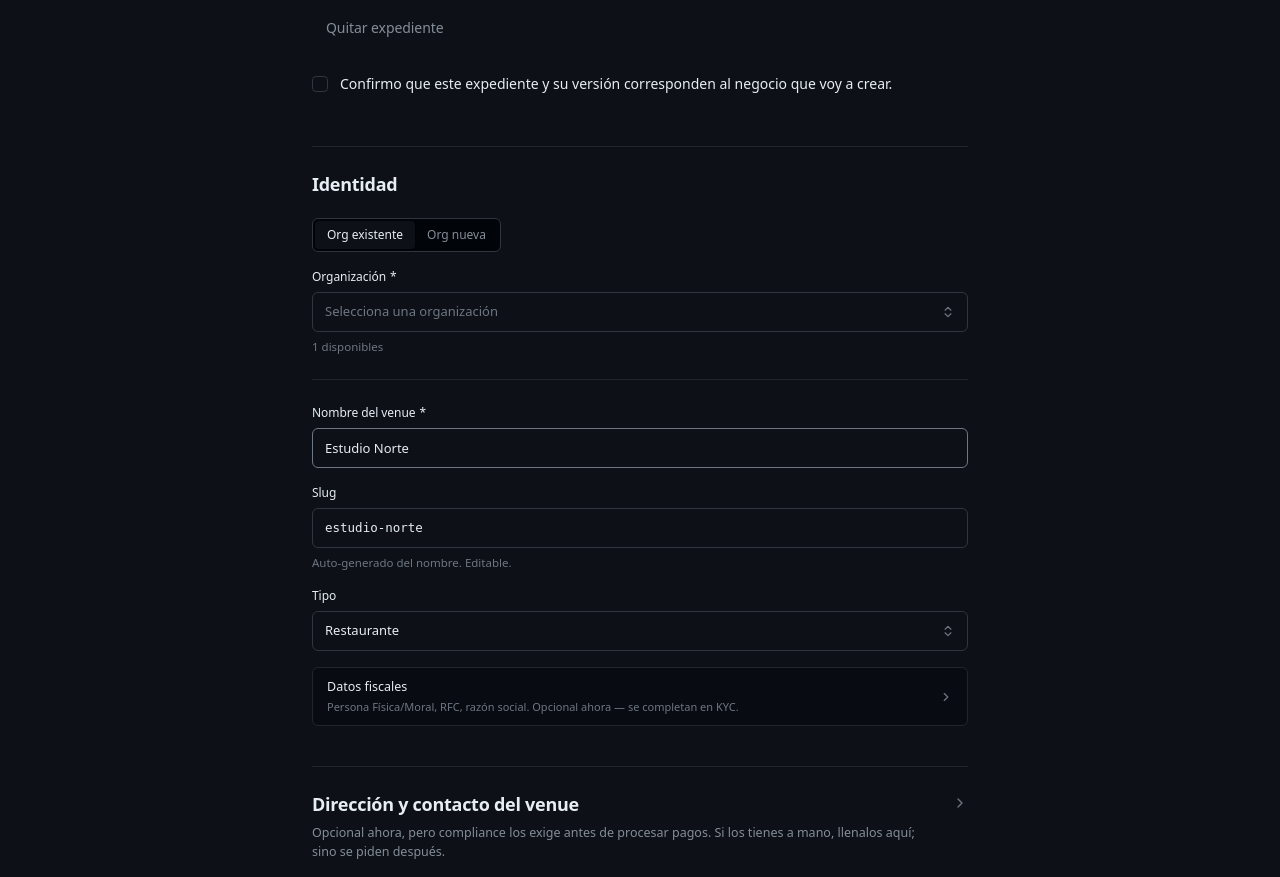
Test: NewVenuePage cambio de expediente › selección manual B suelta URL A; renovar/revocar A no bloquea B
The width and height of the screenshot is (1280, 877).
(page scrolled)
Step 1. Replace the text in the field labelled "Nombre del venue*" with "Nombre revisado" → (640, 448), box [312, 428, 968, 468]
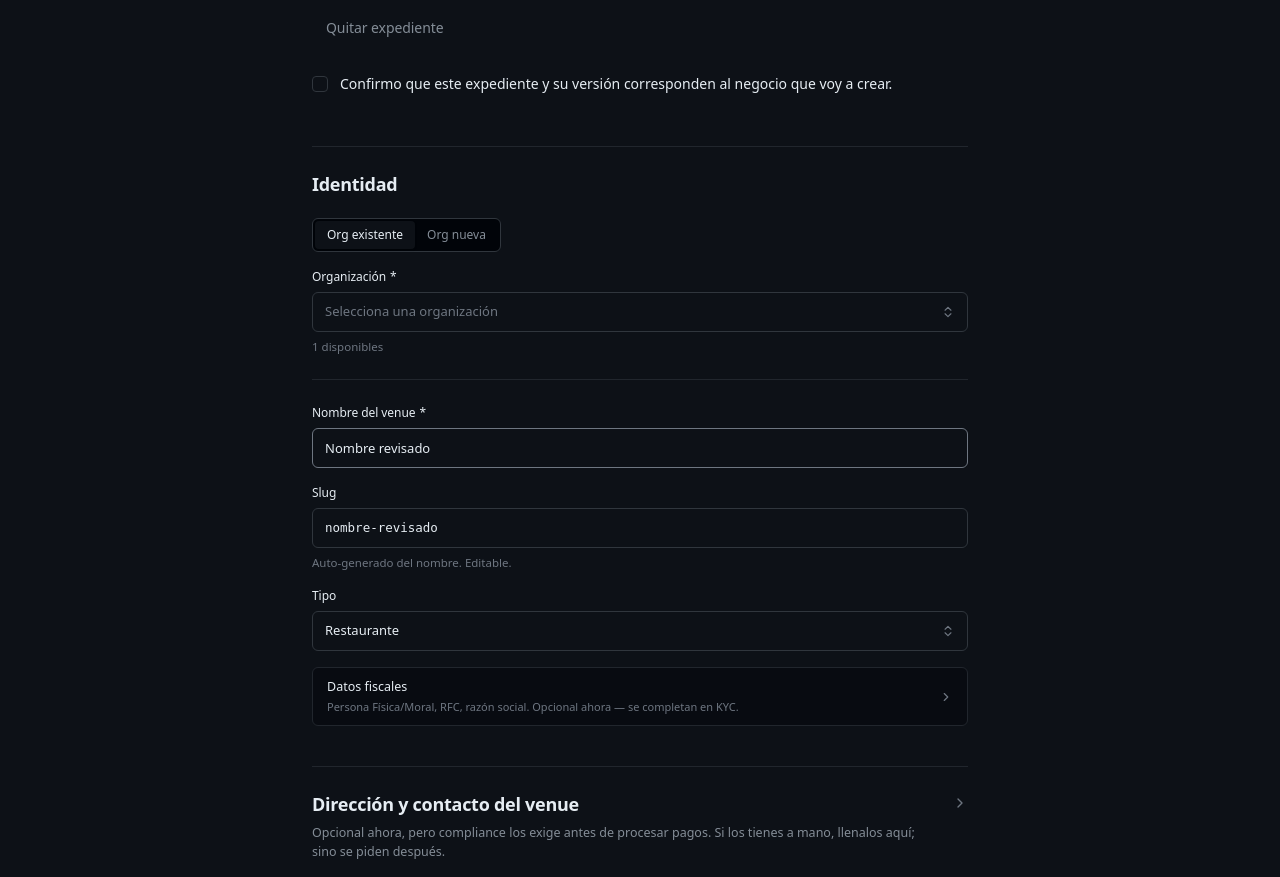
Step 2. Click the checkbox named "Confirmo que este expediente" → (320, 84), box [312, 76, 328, 92]
(page scrolled)
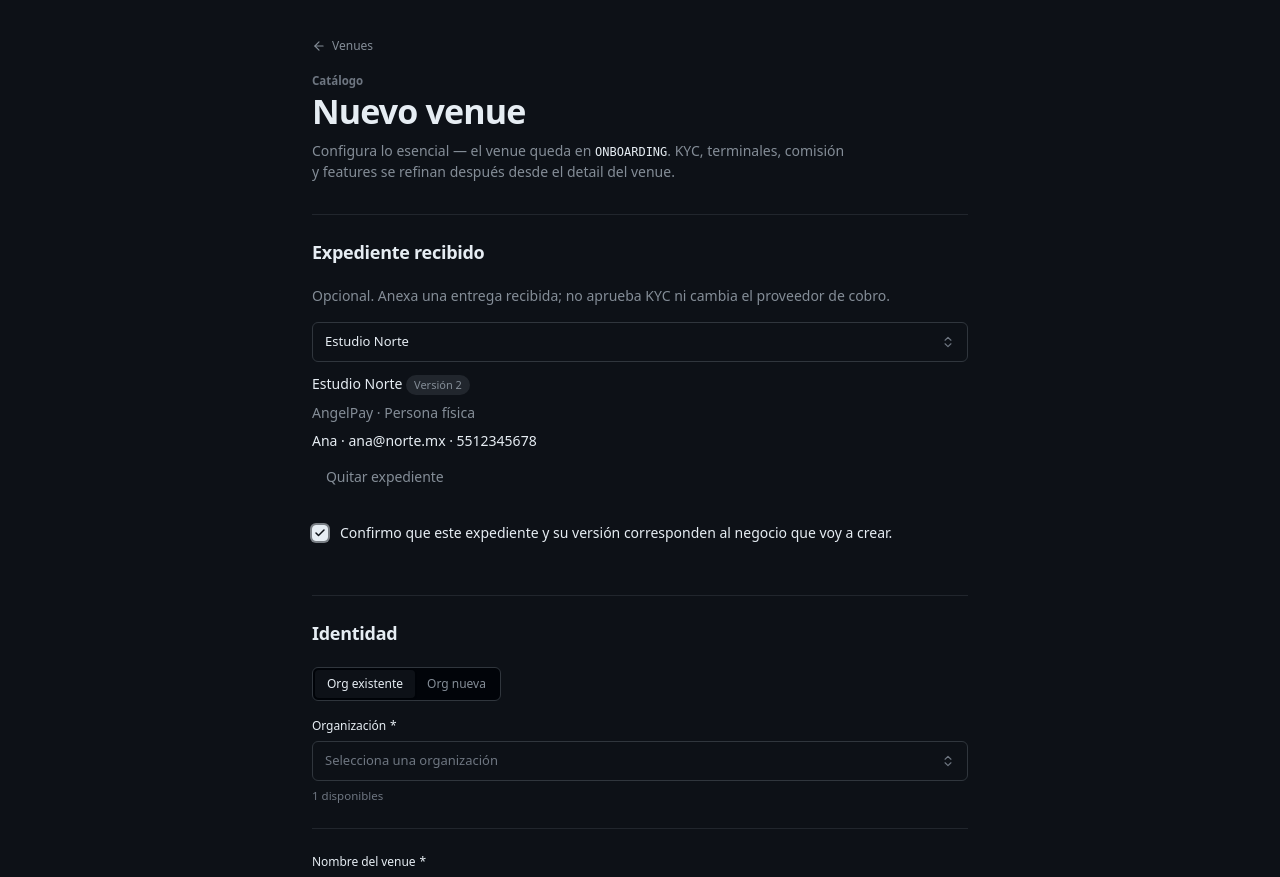
Step 3. Click the button with aria-label "Expediente recibido" → (367, 341), box [312, 322, 968, 362]
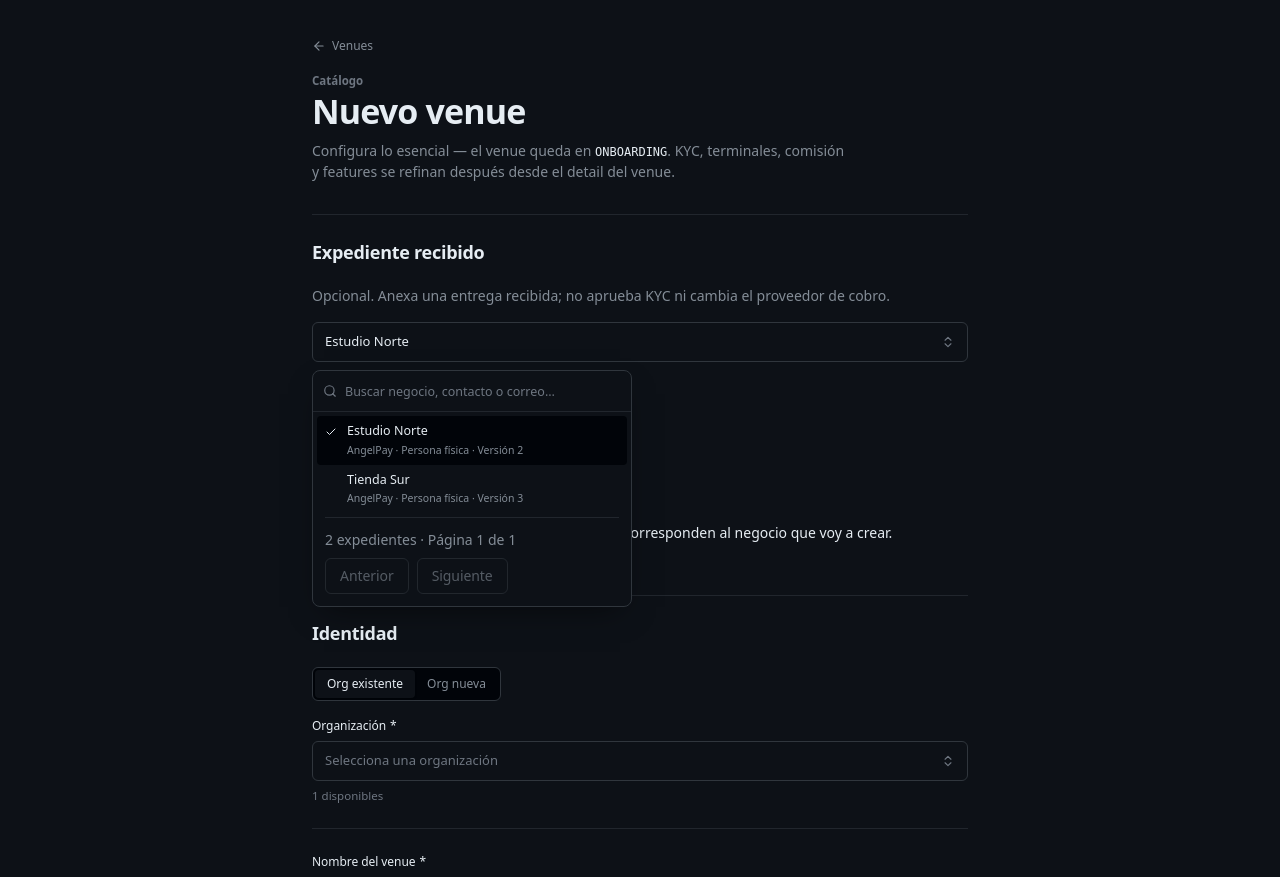
Step 4. Click the option "Tienda Sur AngelPay · Persona física · Versión 3" → (378, 479), box [347, 470, 523, 505]
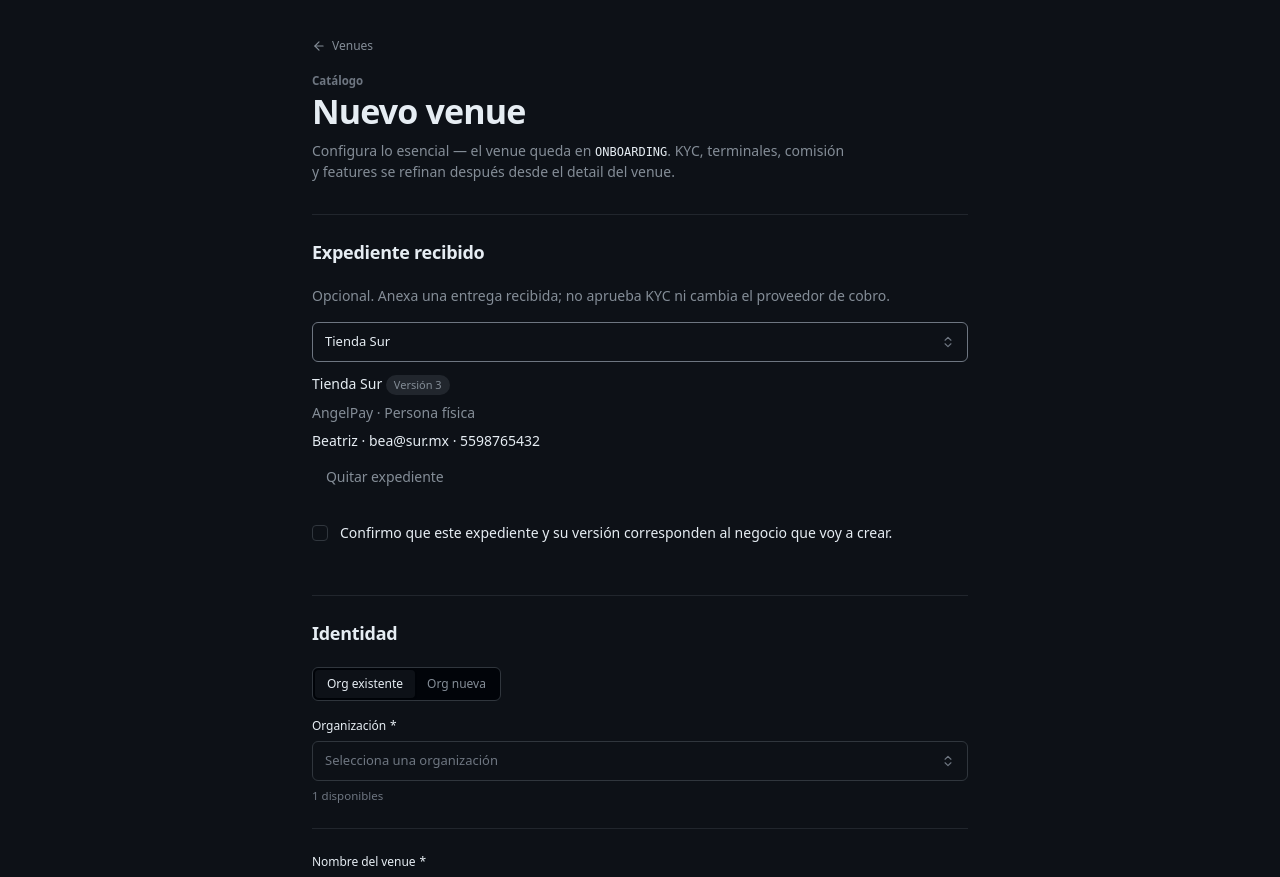
Expected: the button with aria-label "Expediente recibido" is enabled, [312, 322, 968, 362]
Expected: the checkbox named "Confirmo que este expediente" is not checked, [312, 525, 328, 541]
Expected: the text "Versión 3" is shown, [386, 375, 450, 395]
